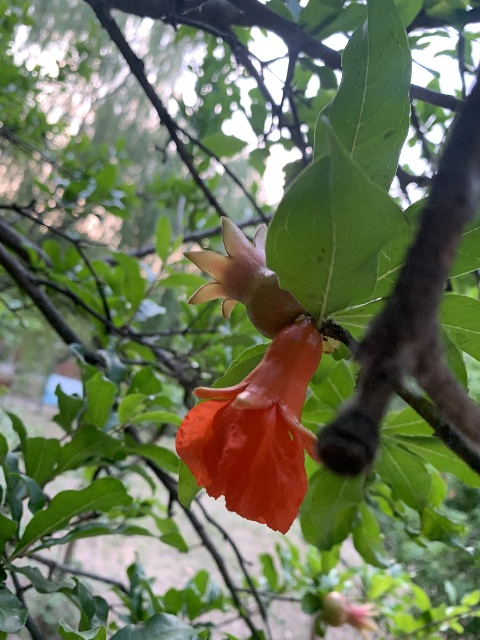early-fruit: (184, 215, 305, 336), (320, 591, 376, 638)
flower: (175, 319, 322, 533)
